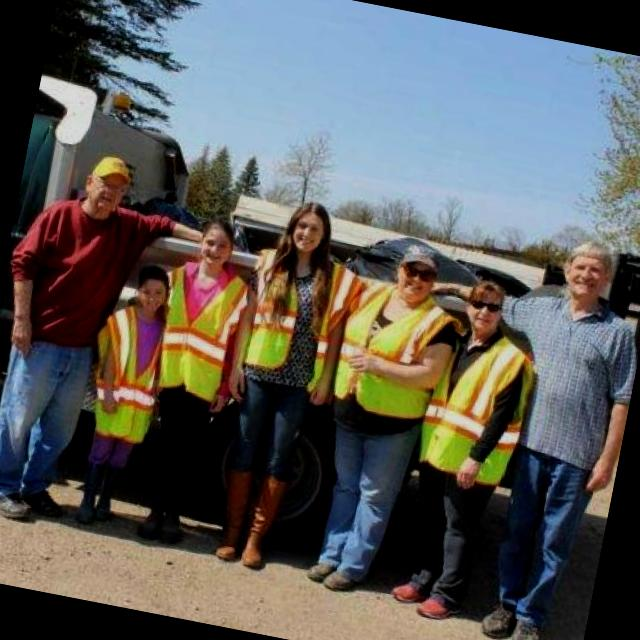vest: (408, 324, 532, 486), (327, 274, 442, 424), (152, 262, 242, 402), (84, 298, 170, 444), (236, 259, 314, 385)
